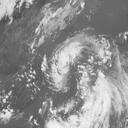cyclone: (45, 30, 112, 100)
